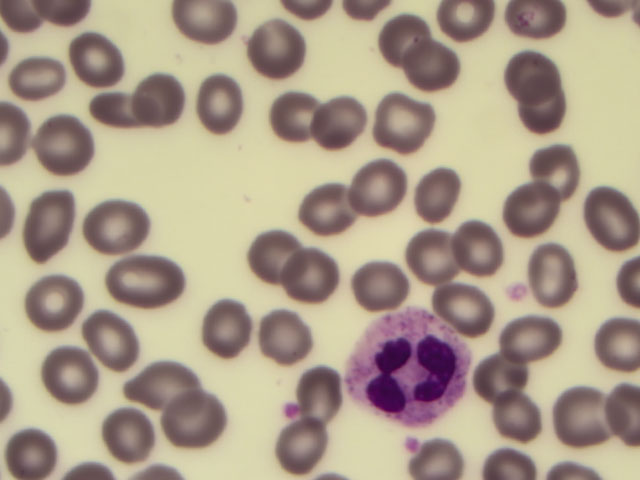Platelets: (508, 281, 534, 307), (281, 402, 301, 417), (405, 437, 421, 450)
RBC: (62, 32, 121, 84), (11, 52, 70, 104), (37, 117, 96, 169), (21, 193, 80, 245), (81, 197, 140, 249), (118, 249, 177, 301), (31, 274, 90, 326), (80, 309, 139, 361), (50, 343, 109, 395), (141, 360, 200, 412), (157, 381, 216, 433), (101, 405, 160, 457), (10, 425, 69, 477), (274, 419, 333, 471), (304, 364, 363, 416), (257, 311, 316, 363), (197, 303, 256, 355), (279, 248, 338, 300), (253, 233, 312, 285), (296, 184, 355, 236), (343, 164, 402, 216), (314, 97, 373, 149), (264, 92, 323, 144), (182, 75, 241, 127), (125, 73, 184, 125), (100, 84, 159, 136), (239, 25, 298, 77), (174, 1, 233, 53), (402, 43, 461, 95), (382, 16, 441, 68), (502, 48, 561, 100), (517, 83, 576, 135), (416, 166, 475, 218), (399, 230, 458, 282), (357, 257, 416, 309), (452, 225, 511, 277), (439, 281, 498, 333), (495, 183, 554, 235), (529, 136, 588, 188), (580, 194, 639, 246), (581, 317, 640, 369), (555, 390, 614, 442), (496, 391, 555, 443), (474, 346, 533, 398), (507, 312, 566, 364)
WBC: (350, 313, 465, 420)
